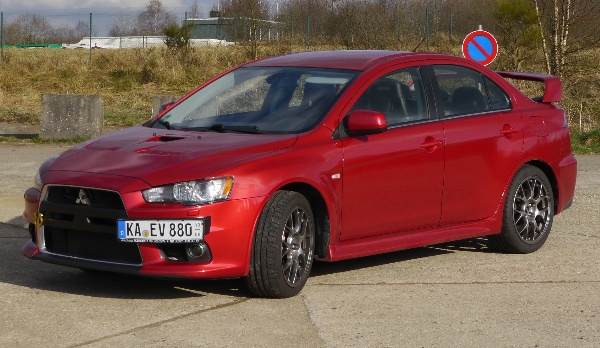licence: (117, 216, 204, 245)
